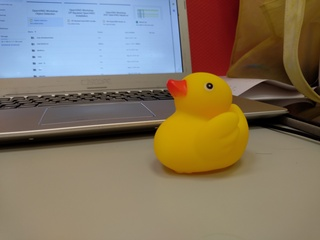duck: (152, 68, 255, 182)
